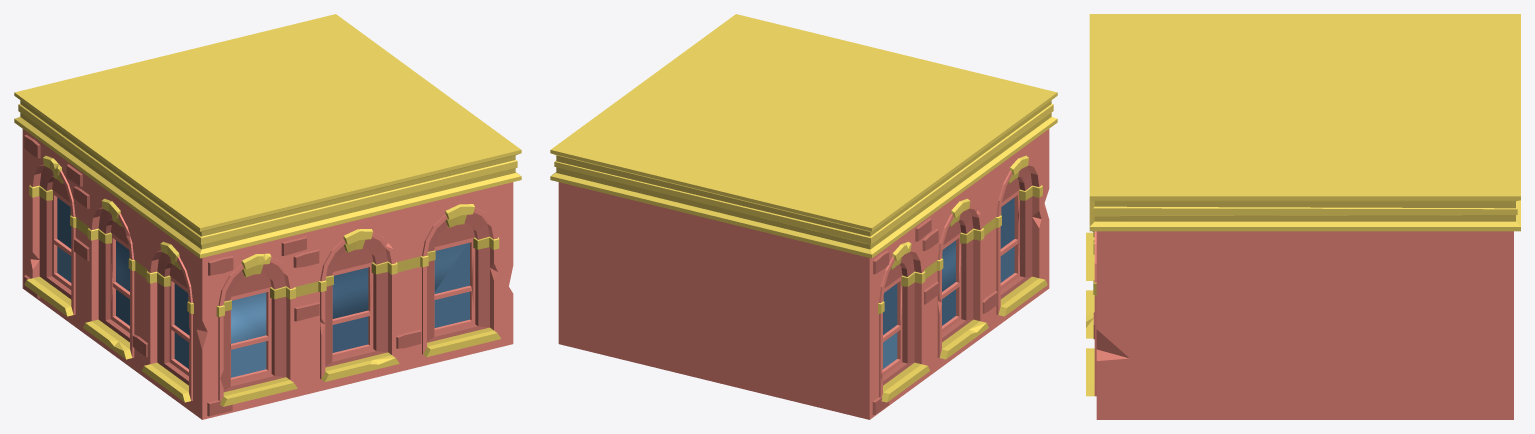
File: Mod_Edificio_7.fbx
3 views of the same model, side by side, from view 1: azimuth 30°, elevation 25°; view 2: azimuth 150°, elevation 25°; view 3: azimuth 270°, elevation 25° (orthographic). The views are drawn at different scales.
Parts seen in each view (by area): view 1: Edificio_7; view 2: Edificio_7; view 3: Edificio_7.
Part boxes in pixels (box(x1,y1,x2,y2)): Edificio_7: box(14, 14, 521, 419); Edificio_7: box(550, 14, 1057, 419); Edificio_7: box(1086, 14, 1520, 419).
Size of the model in its own units: 5.21 by 3 by 5.21.
